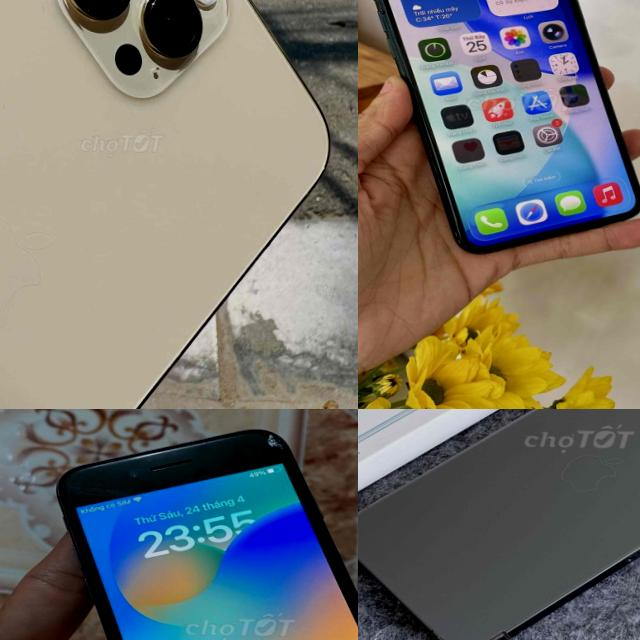gen_11: (358, 0, 640, 247)
gen_12_13: (0, 0, 336, 409), (358, 409, 640, 640)
gen_7_8: (4, 409, 358, 640)
physical_damage: (240, 425, 296, 459)
scratch: (59, 472, 144, 510)
